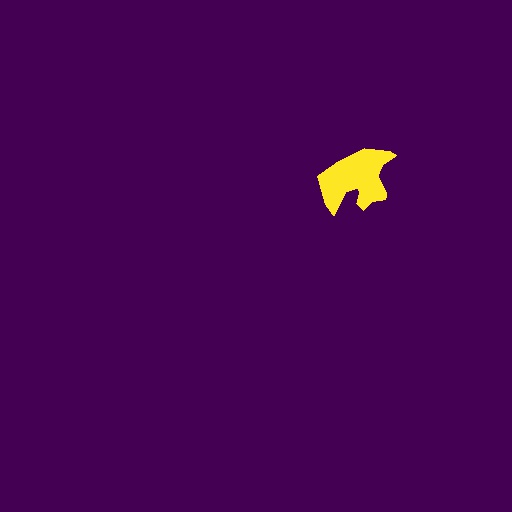Gliomia_tumour: (317, 148, 397, 216)
